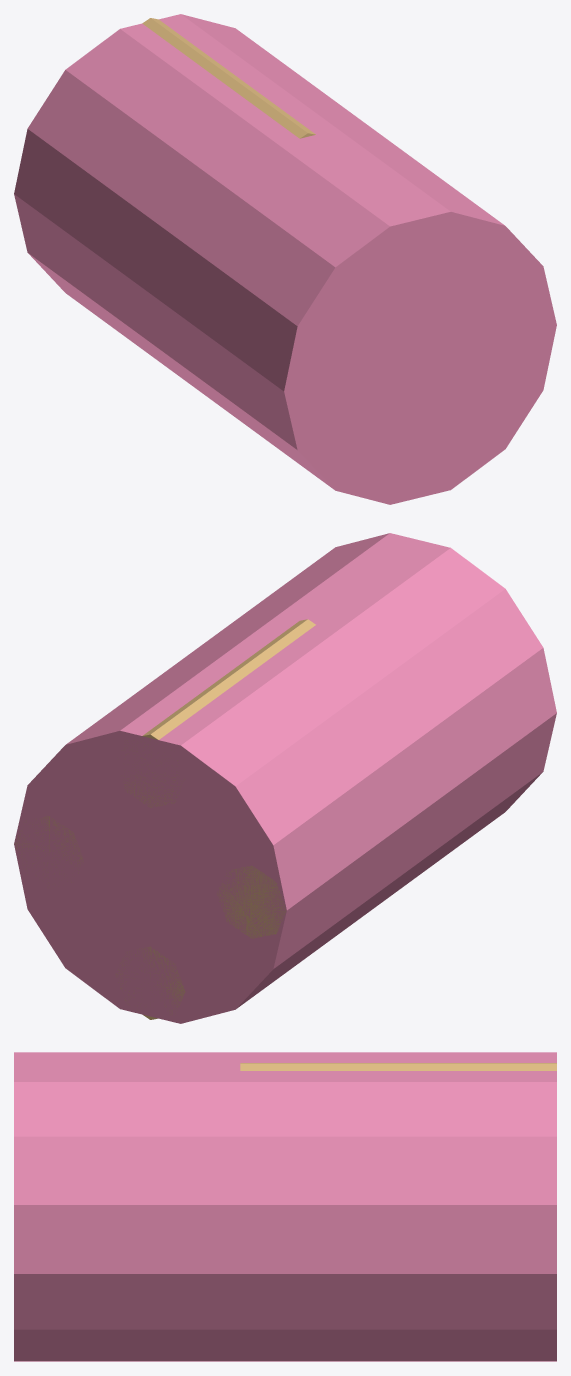
Rendered from FlashHider.obj.
3 renders of one model, top to bottom at view 1: azimuth 30°, elevation 25°; view 2: azimuth 150°, elevation 25°; view 3: azimuth 270°, elevation 25°, orthographic.
Parts seen in each view (by area): view 1: FlashHider_Body, FlashHider_Detail; view 2: FlashHider_Body, FlashHider_Detail; view 3: FlashHider_Body, FlashHider_Detail.
Part boxes in pixels (x1,y1,x2,y2): FlashHider_Body: (14, 14, 556, 504); FlashHider_Detail: (142, 18, 315, 138); FlashHider_Body: (14, 533, 556, 1023); FlashHider_Detail: (14, 619, 315, 1019); FlashHider_Body: (14, 1052, 556, 1361); FlashHider_Detail: (240, 1063, 556, 1070).
Size of the model in its own units: 0.14 by 0.14 by 0.24.
